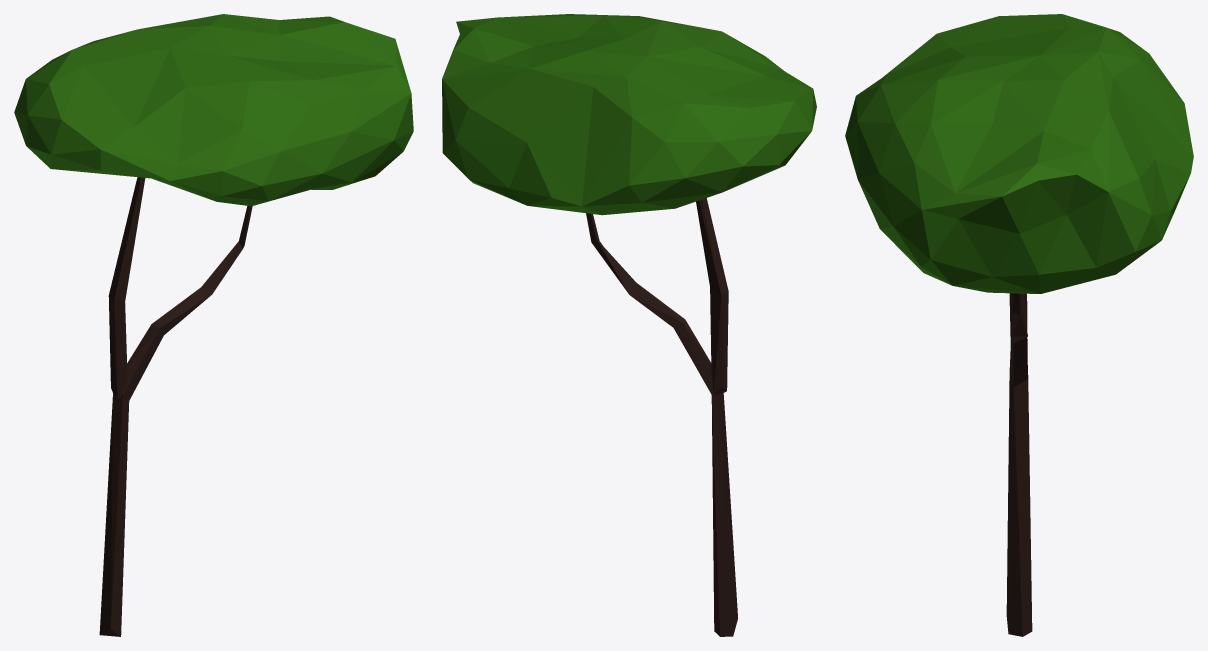
Rendered from SM_tree_01.fbx.
3 views of the same model, side by side, from view 1: azimuth 30°, elevation 25°; view 2: azimuth 150°, elevation 25°; view 3: azimuth 270°, elevation 25° (orthographic). The views are drawn at different scales.
Parts seen in each view (by area): view 1: Group8380; view 2: Group8380; view 3: Group8380.
Part boxes in pixels (x1,y1,x2,y2): Group8380: [14, 14, 413, 636]; Group8380: [442, 14, 816, 636]; Group8380: [845, 14, 1193, 636].
Size of the model in its own units: 165 by 256 by 131.
